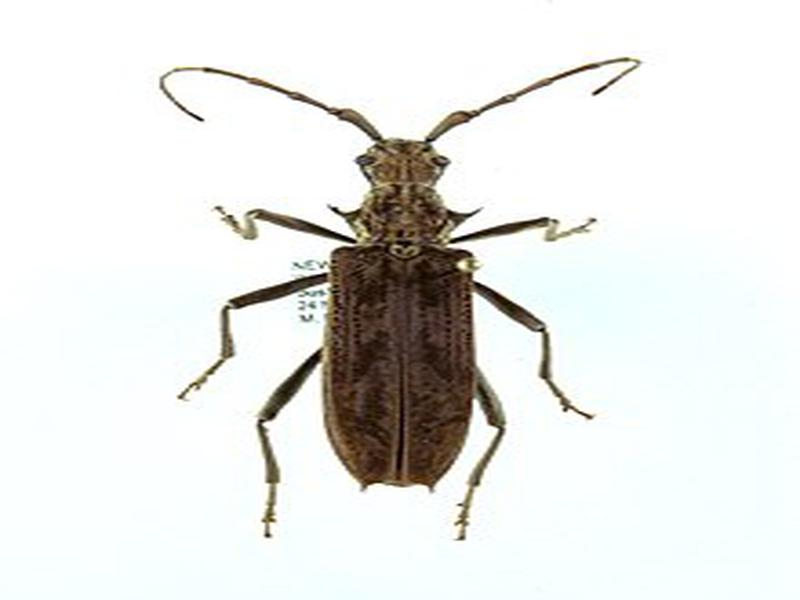Spiny_beetle: (165, 62, 647, 544)
